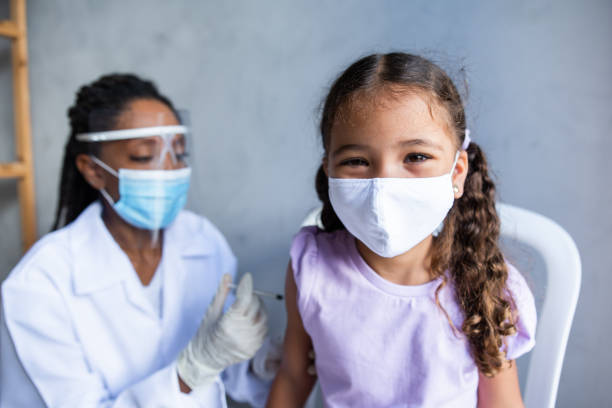with mask: (312, 84, 467, 261), (83, 99, 200, 244)
